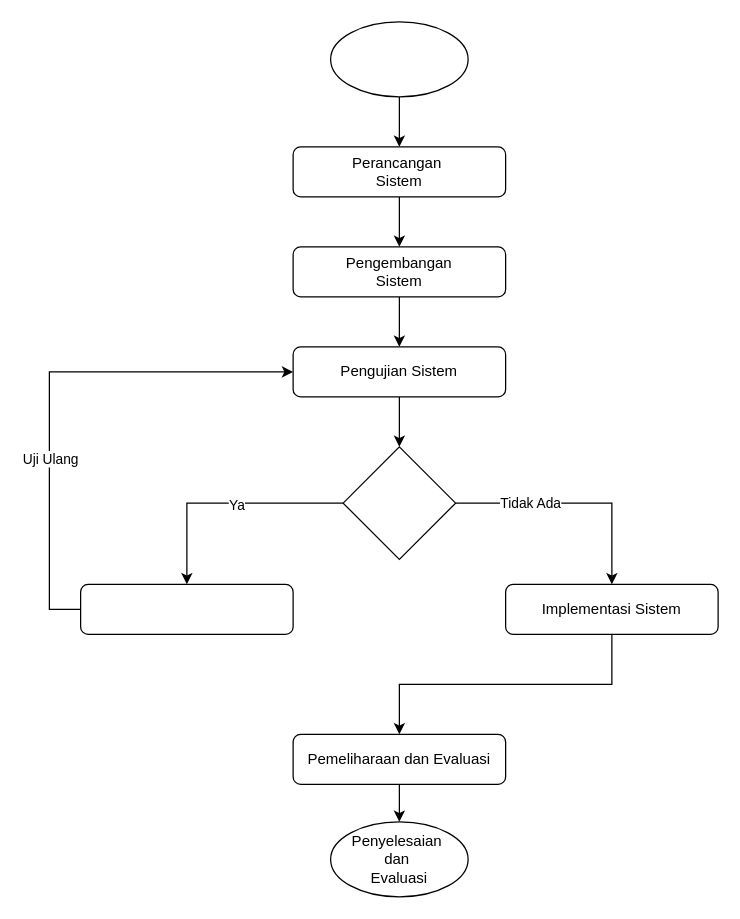
The diagram is 740 pixels wide and 919 high, and some of its shapes have lost their labels. The shapes that lost their labels are listed below. From the top down, each one's centre as x and y in pixels, then its label:
[398,59]: Analisis Kebutuhan
[399,502]: Apakah ada error/bug?
[186,608]: Perbaikan Sistem
